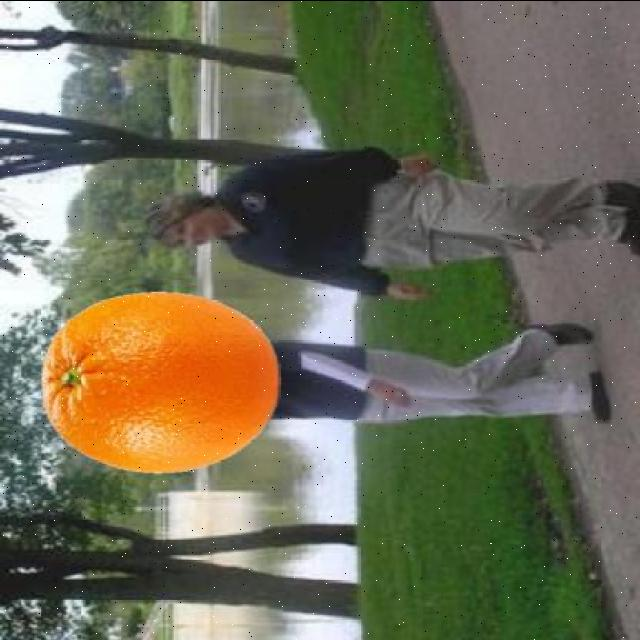Orange: (38, 290, 280, 476)
